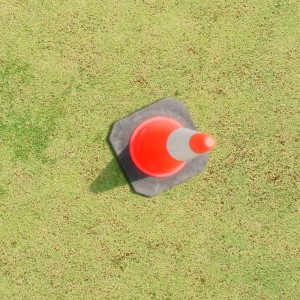traffic cone: (107, 97, 217, 199)
